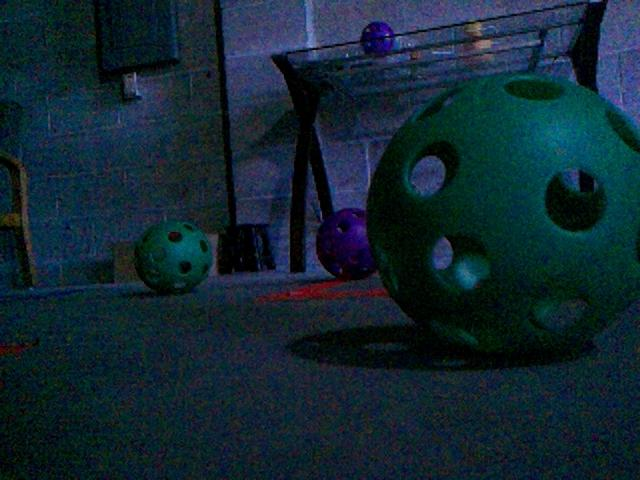Green: (364, 76, 640, 355), (133, 220, 212, 294)
Purple: (314, 207, 376, 281), (360, 21, 396, 57)
